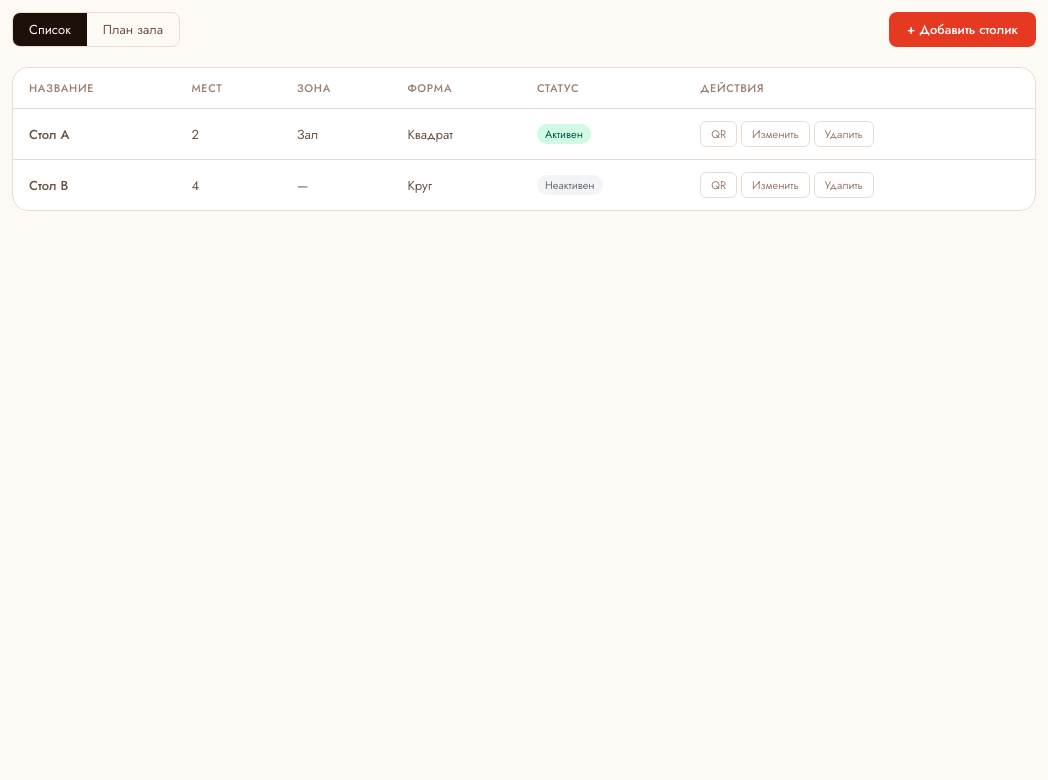
Test: AdminTablesPage view mode toggle › hides add button in plan mode
This screenshot has width=1048, height=780.
Expected: the text "Стол A" is shown, left=13, top=108, right=175, bottom=160
Expected: the button "+ Добавить столик" is shown, left=889, top=12, right=1036, bottom=47
Click the button "План зала". click: point(133, 30)
box: left=87, top=13, right=179, bottom=46
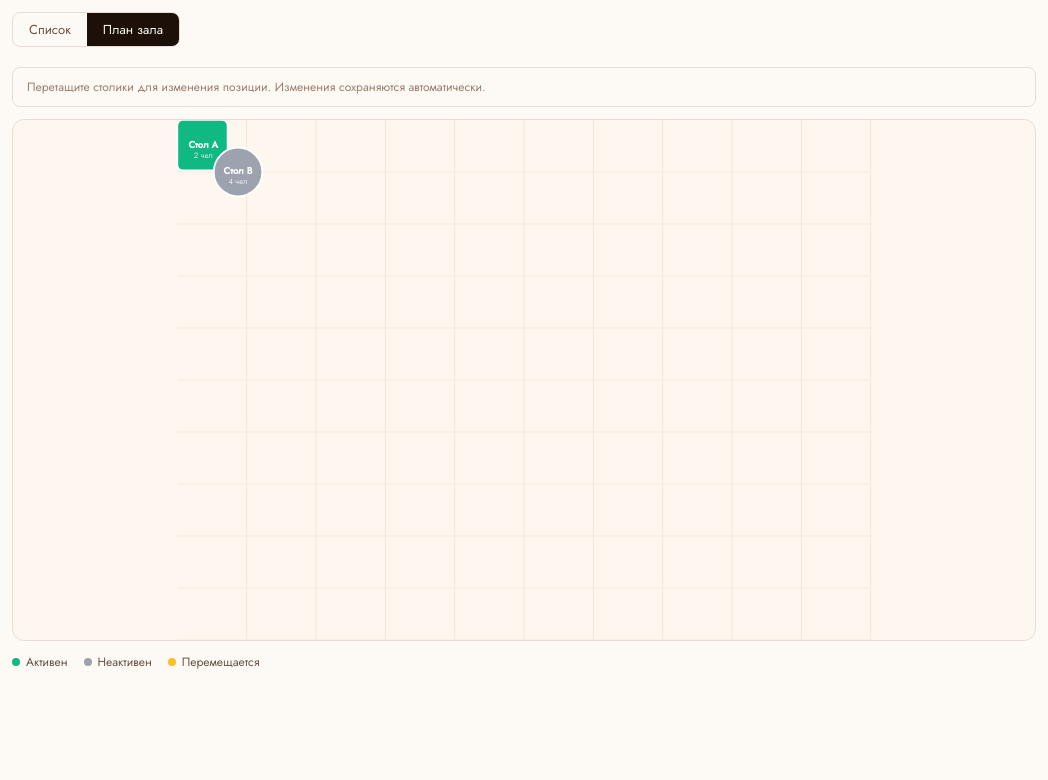
Now the button "+ Добавить столик" is gone
